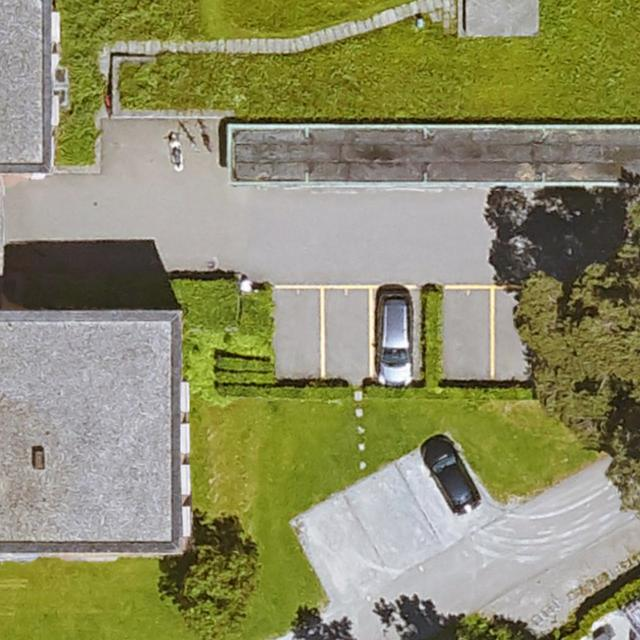tree: (517, 263, 640, 414), (167, 541, 262, 633), (602, 412, 640, 512), (454, 607, 537, 640), (618, 194, 640, 290)
